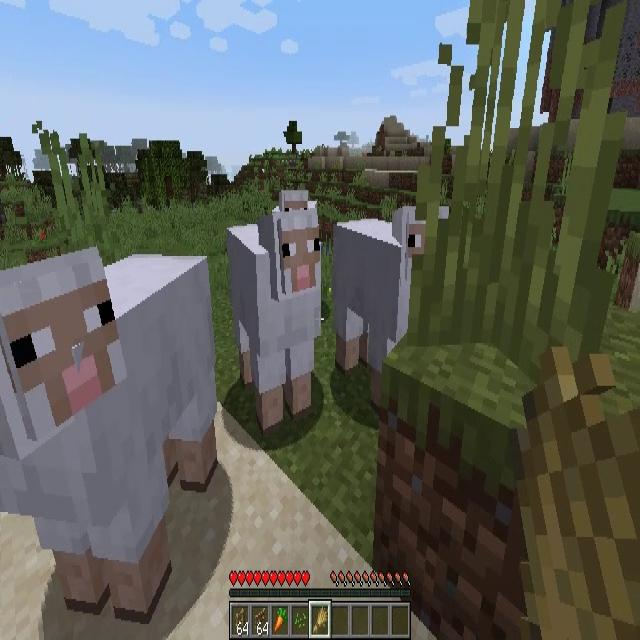sheep: (0, 247, 218, 618), (334, 212, 450, 402), (225, 218, 318, 418)
